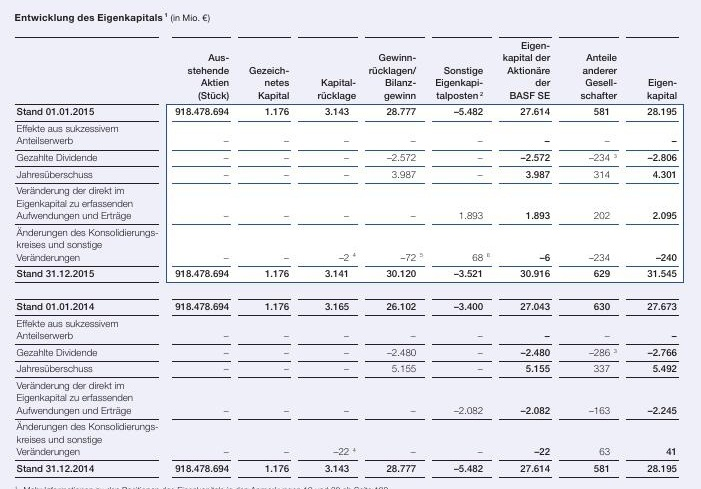table: (0, 0, 701, 489)
